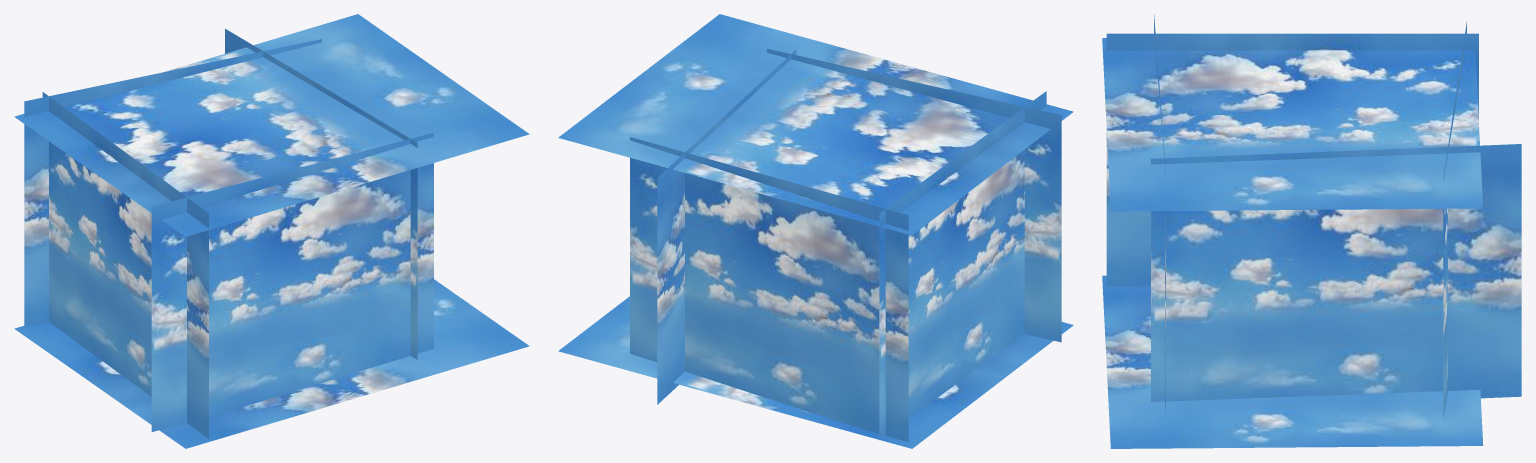
Rendered from 16064_autosave2.glb.
3 views of the same model, side by side, from view 1: azimuth 30°, elevation 25°; view 2: azimuth 150°, elevation 25°; view 3: azimuth 270°, elevation 25° (orthographic). The views are drawn at different scales.
Parts seen in each view (by area): view 1: images.004, images.003, images, images.005, images.001, images.002; view 2: images.001, images.004, images, images.003, images.005, images.002; view 3: images.002, images.004, images.005, images, images.001, images.003.
Part boxes in pixels (left/top/right/bottom): images.004: left=14, top=14, right=529, bottom=236; images.003: left=151, top=132, right=433, bottom=431; images: left=42, top=92, right=208, bottom=438; images.005: left=14, top=279, right=529, bottom=448; images.001: left=24, top=39, right=321, bottom=326; images.002: left=225, top=28, right=417, bottom=359; images.001: left=630, top=137, right=908, bottom=442; images.004: left=558, top=14, right=1073, bottom=235; images: left=879, top=91, right=1046, bottom=440; images.003: left=767, top=48, right=1061, bottom=342; images.005: left=558, top=296, right=1073, bottom=448; images.002: left=657, top=50, right=796, bottom=404; images.002: left=1151, top=144, right=1521, bottom=401; images.004: left=1102, top=38, right=1483, bottom=211; images.005: left=1102, top=275, right=1483, bottom=448; images: left=1106, top=33, right=1478, bottom=286; images.001: left=1443, top=21, right=1466, bottom=418; images.003: left=1154, top=14, right=1165, bottom=411.
Bounding box in the file's own units: 14597 × 8860 × 13188.
Materials: 10 (3 with a texture image).
